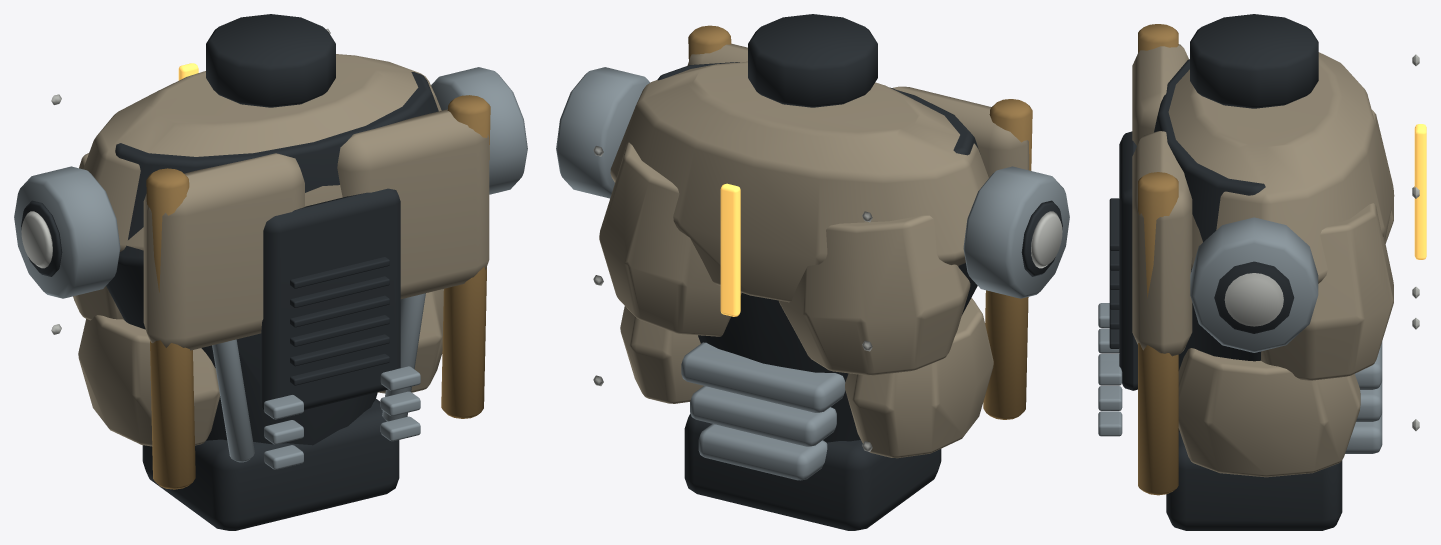
The model's file is torsos_10.glb.
3 views of the same model, side by side, from view 1: azimuth 30°, elevation 25°; view 2: azimuth 150°, elevation 25°; view 3: azimuth 270°, elevation 25° (orthographic).
Parts seen in each view (by area): view 1: torsos_10_Geometry; view 2: torsos_10_Geometry; view 3: torsos_10_Geometry.
Part boxes in pixels (x1,y1,x2,y2): torsos_10_Geometry: (14,14,527,530); torsos_10_Geometry: (556,14,1069,530); torsos_10_Geometry: (1098,14,1426,530).
Size of the model in its own units: 0.692 by 0.625 by 0.4105.
